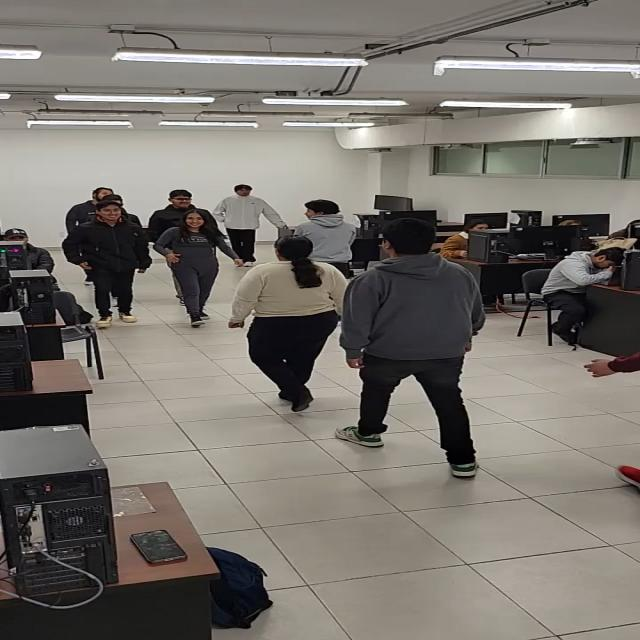Persona: (356, 214, 490, 468), (228, 236, 354, 418), (63, 202, 156, 324), (161, 209, 226, 326), (304, 195, 361, 269), (220, 182, 278, 247), (157, 189, 199, 219)
